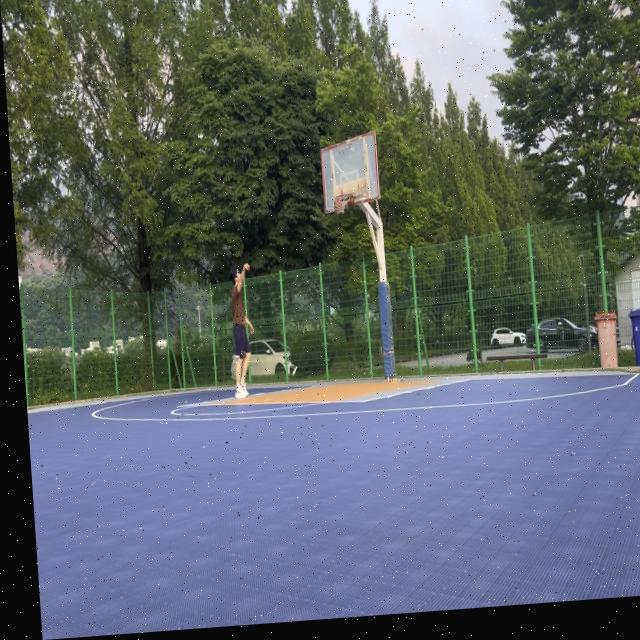basketball: (333, 196, 343, 213)
hoop: (333, 193, 354, 215), (333, 193, 354, 214)
